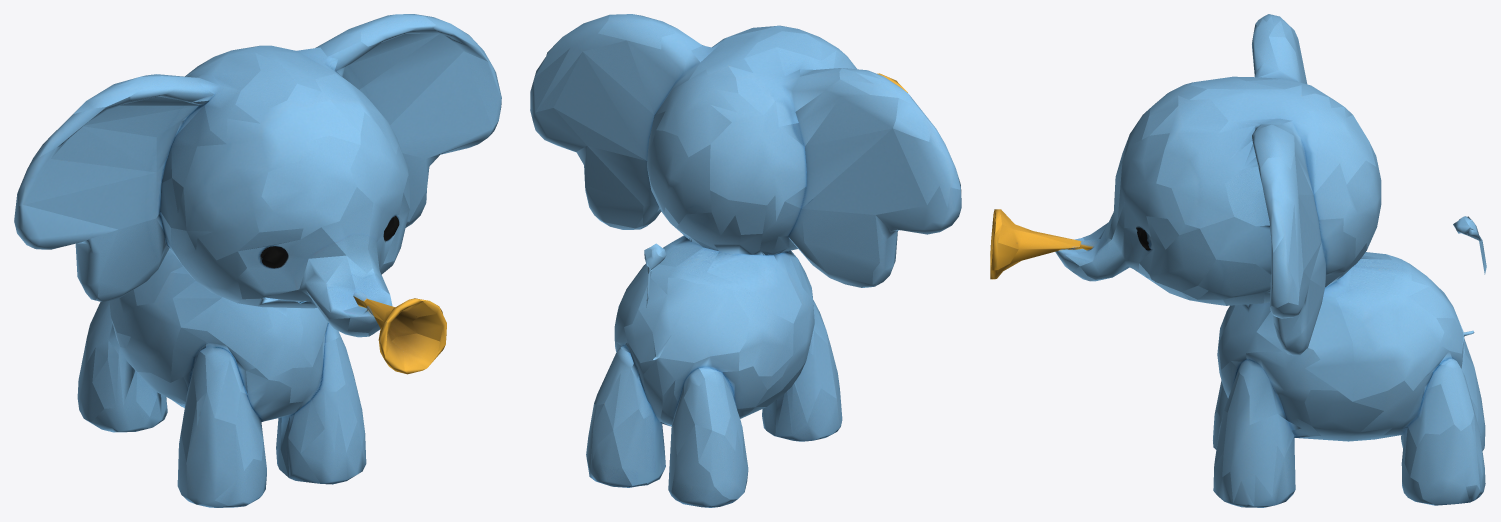
3 views of the same model, side by side, from view 1: azimuth 30°, elevation 25°; view 2: azimuth 150°, elevation 25°; view 3: azimuth 270°, elevation 25° (orthographic). The views are drawn at different scales.
Parts seen in each view (by area): view 1: Mesh_0; view 2: Mesh_0; view 3: Mesh_0.
Boxes of the visible parts, bbox=[...] form: Mesh_0: bbox=[14, 14, 501, 507]; Mesh_0: bbox=[530, 14, 961, 507]; Mesh_0: bbox=[990, 14, 1486, 507].
Bounding box in the file's own units: 1.89 × 1.6 × 1.84.
1 material, 1 textured.
